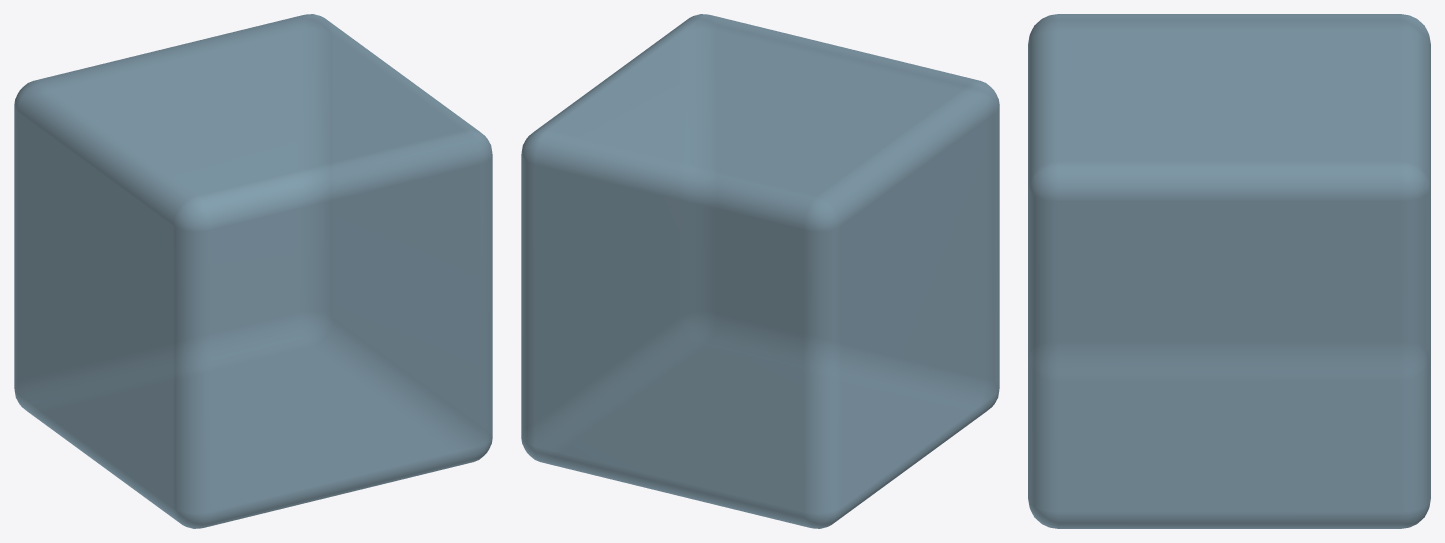
File: ice_scale.fbx
3 renders of one model, left to right at view 1: azimuth 30°, elevation 25°; view 2: azimuth 150°, elevation 25°; view 3: azimuth 270°, elevation 25°, orthographic. The views are drawn at different scales.
Parts seen in each view (by area): view 1: pCube1; view 2: pCube1; view 3: pCube1.
Boxes of the visible parts, x1,y1,x2,y2 form: pCube1: (14, 14, 492, 528); pCube1: (521, 14, 999, 528); pCube1: (1028, 14, 1430, 528).
Bounding box in the file's own units: 102 × 102 × 102.
